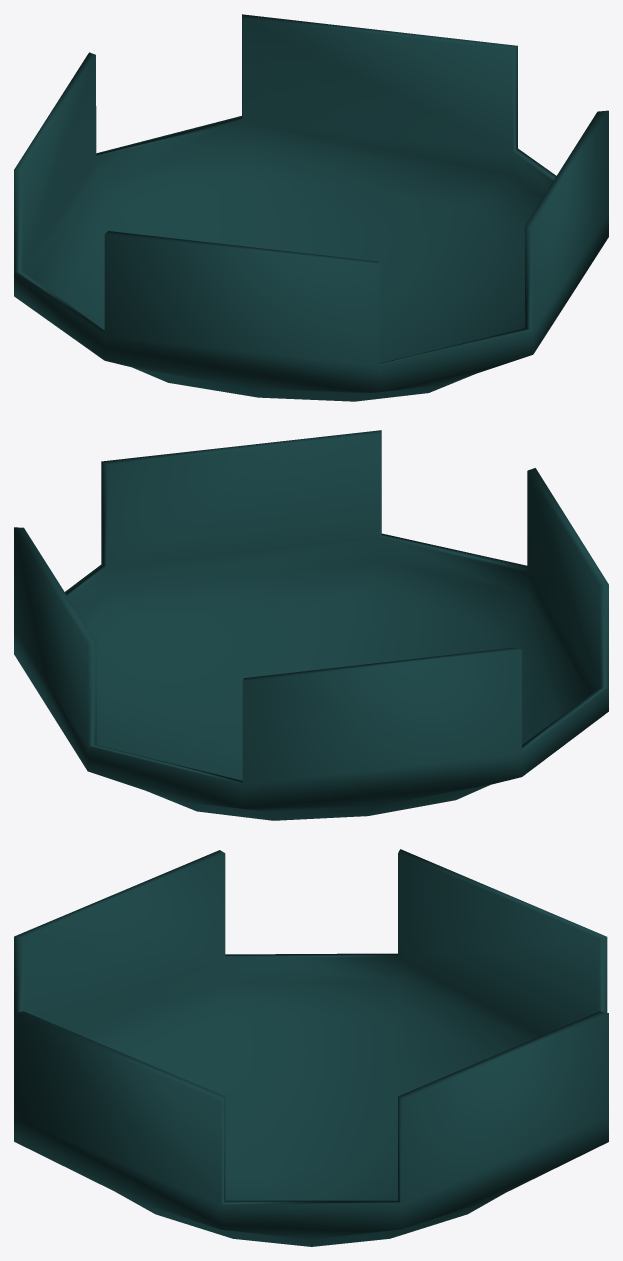
The model's file is OutsideControlRoomHigh.fbx.
3 renders of one model, top to bottom at view 1: azimuth 30°, elevation 25°; view 2: azimuth 150°, elevation 25°; view 3: azimuth 270°, elevation 25°, orthographic.
Parts seen in each view (by area): view 1: OutsideControlRoomHigh; view 2: OutsideControlRoomHigh; view 3: OutsideControlRoomHigh.
Boxes of the visible parts, x1,y1,x2,y2 form: OutsideControlRoomHigh: (14,14,608,401); OutsideControlRoomHigh: (14,430,608,820); OutsideControlRoomHigh: (14,849,608,1246).
Size of the model in its own units: 816 by 814 by 346.
